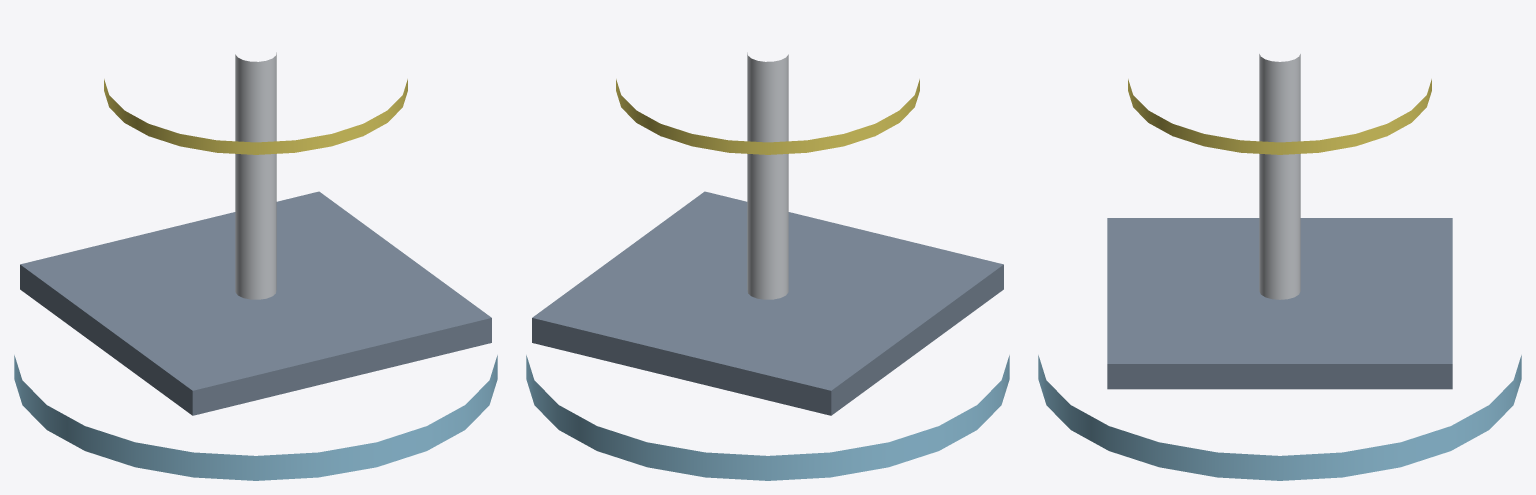
The model's file is spherometer_radius_curvature.glb.
3 views of the same model, side by side, from view 1: azimuth 30°, elevation 25°; view 2: azimuth 150°, elevation 25°; view 3: azimuth 270°, elevation 25° (orthographic).
Parts seen in each view (by area): view 1: TriangularTripodLegsBase, ConvexSphericalMirrorSurface, CentralMicrometerScrewSpindle, CircularGraduatedDialDisc; view 2: TriangularTripodLegsBase, ConvexSphericalMirrorSurface, CentralMicrometerScrewSpindle, CircularGraduatedDialDisc; view 3: TriangularTripodLegsBase, ConvexSphericalMirrorSurface, CentralMicrometerScrewSpindle, CircularGraduatedDialDisc.
Boxes of the visible parts, left/top/right/bottom form: TriangularTripodLegsBase: left=20, top=191, right=491, bottom=415; ConvexSphericalMirrorSurface: left=14, top=355, right=497, bottom=480; CentralMicrometerScrewSpindle: left=235, top=52, right=276, bottom=299; CircularGraduatedDialDisc: left=104, top=79, right=407, bottom=154; TriangularTripodLegsBase: left=532, top=191, right=1003, bottom=415; ConvexSphericalMirrorSurface: left=526, top=355, right=1009, bottom=480; CentralMicrometerScrewSpindle: left=747, top=52, right=788, bottom=299; CircularGraduatedDialDisc: left=616, top=79, right=919, bottom=154; TriangularTripodLegsBase: left=1107, top=218, right=1452, bottom=389; ConvexSphericalMirrorSurface: left=1038, top=355, right=1521, bottom=480; CentralMicrometerScrewSpindle: left=1259, top=54, right=1300, bottom=299; CircularGraduatedDialDisc: left=1128, top=79, right=1431, bottom=154.
Size of the model in its own units: 0.7 by 0.52 by 0.7.
